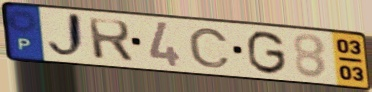4: (146, 20, 182, 70)
8: (291, 32, 330, 82)
C: (186, 26, 233, 69)
G: (246, 29, 289, 76)
J: (45, 10, 89, 61)
R: (86, 17, 136, 65)
